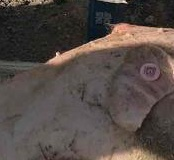text: (130, 54, 168, 89)
